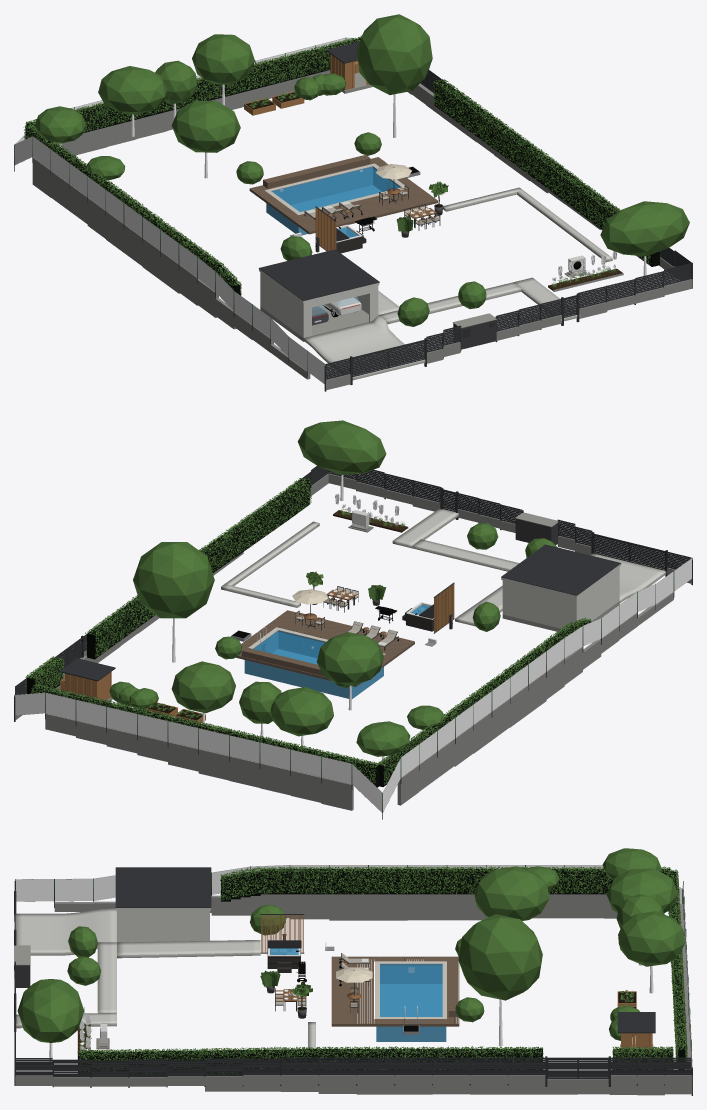
The model's file is okoli.glb.
3 renders of one model, top to bottom at view 1: azimuth 30°, elevation 25°; view 2: azimuth 150°, elevation 25°; view 3: azimuth 270°, elevation 25°, orthographic. The views are drawn at different scales.
Parts seen in each view (by area): view 1: okoli; view 2: okoli; view 3: okoli.
Part boxes in pixels (<box>): okoli: <box>14,14,692,391</box>; okoli: <box>14,420,692,819</box>; okoli: <box>14,848,692,1095</box>.
Size of the model in its own units: 29.34 by 10.83 by 42.77.
